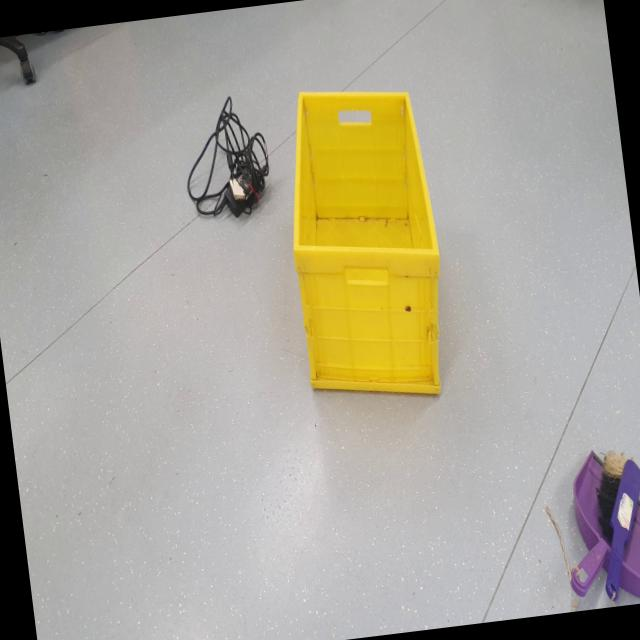box: (264, 58, 458, 419)
